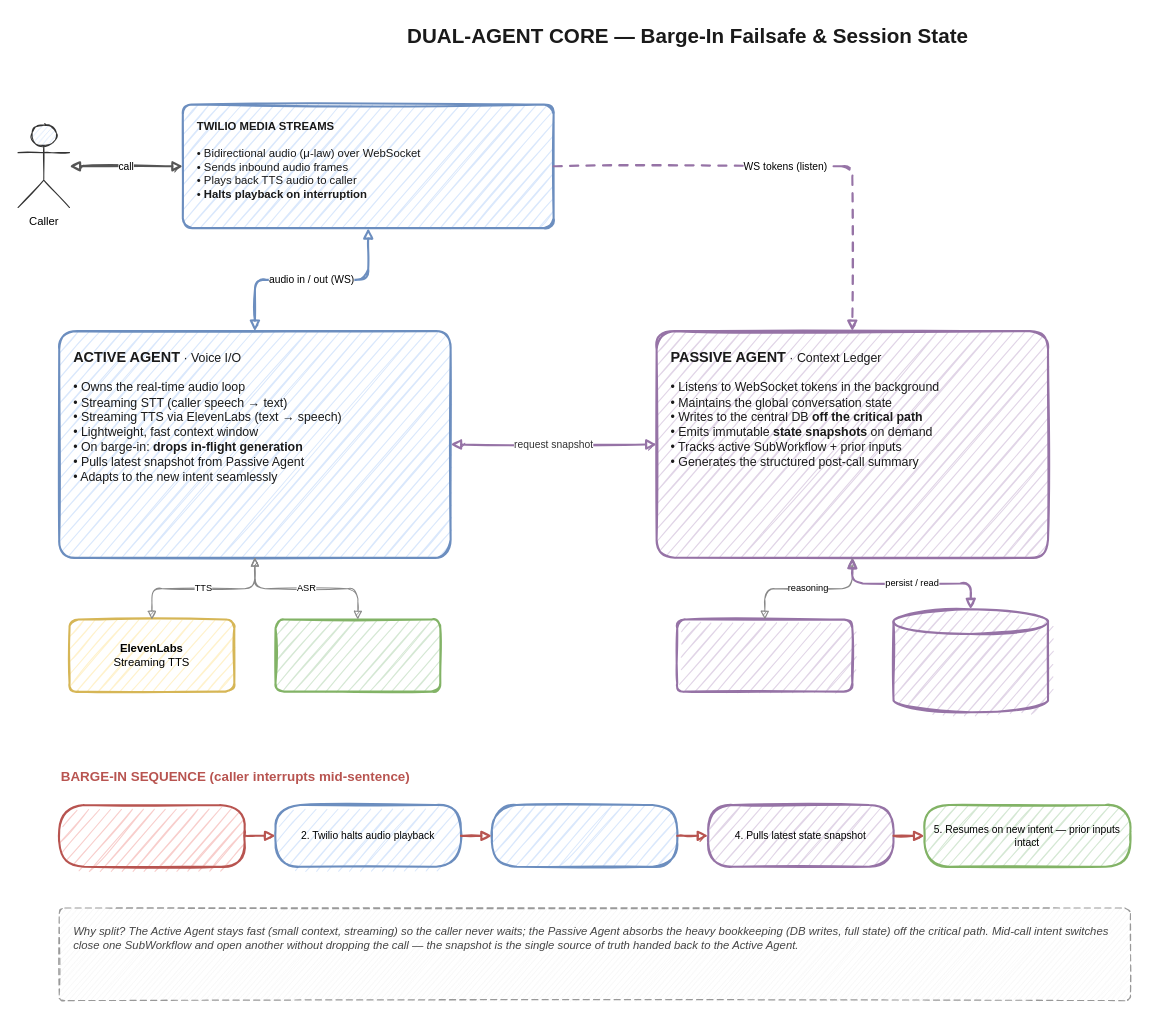
This 1169x1019 diagram has some shape labels left out. Here are the shapes that lost their labels. From the top down, the centre of each, then its label:
At point (357, 655): "STT / ASR Deepgram (TBD)".
At point (764, 655): "Claude Opus 4.8 Reasoning + tools".
At point (970, 660): "State Store fast cache + DB (snapshots)".
At point (151, 835): "1. Caller speaks over playback".
At point (584, 835): "3. Active Agent drops generation".
